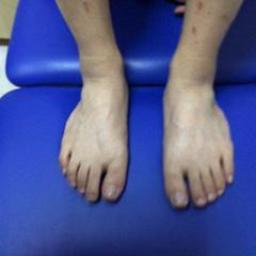Front View -Both Feet-: (50, 27, 242, 212)
